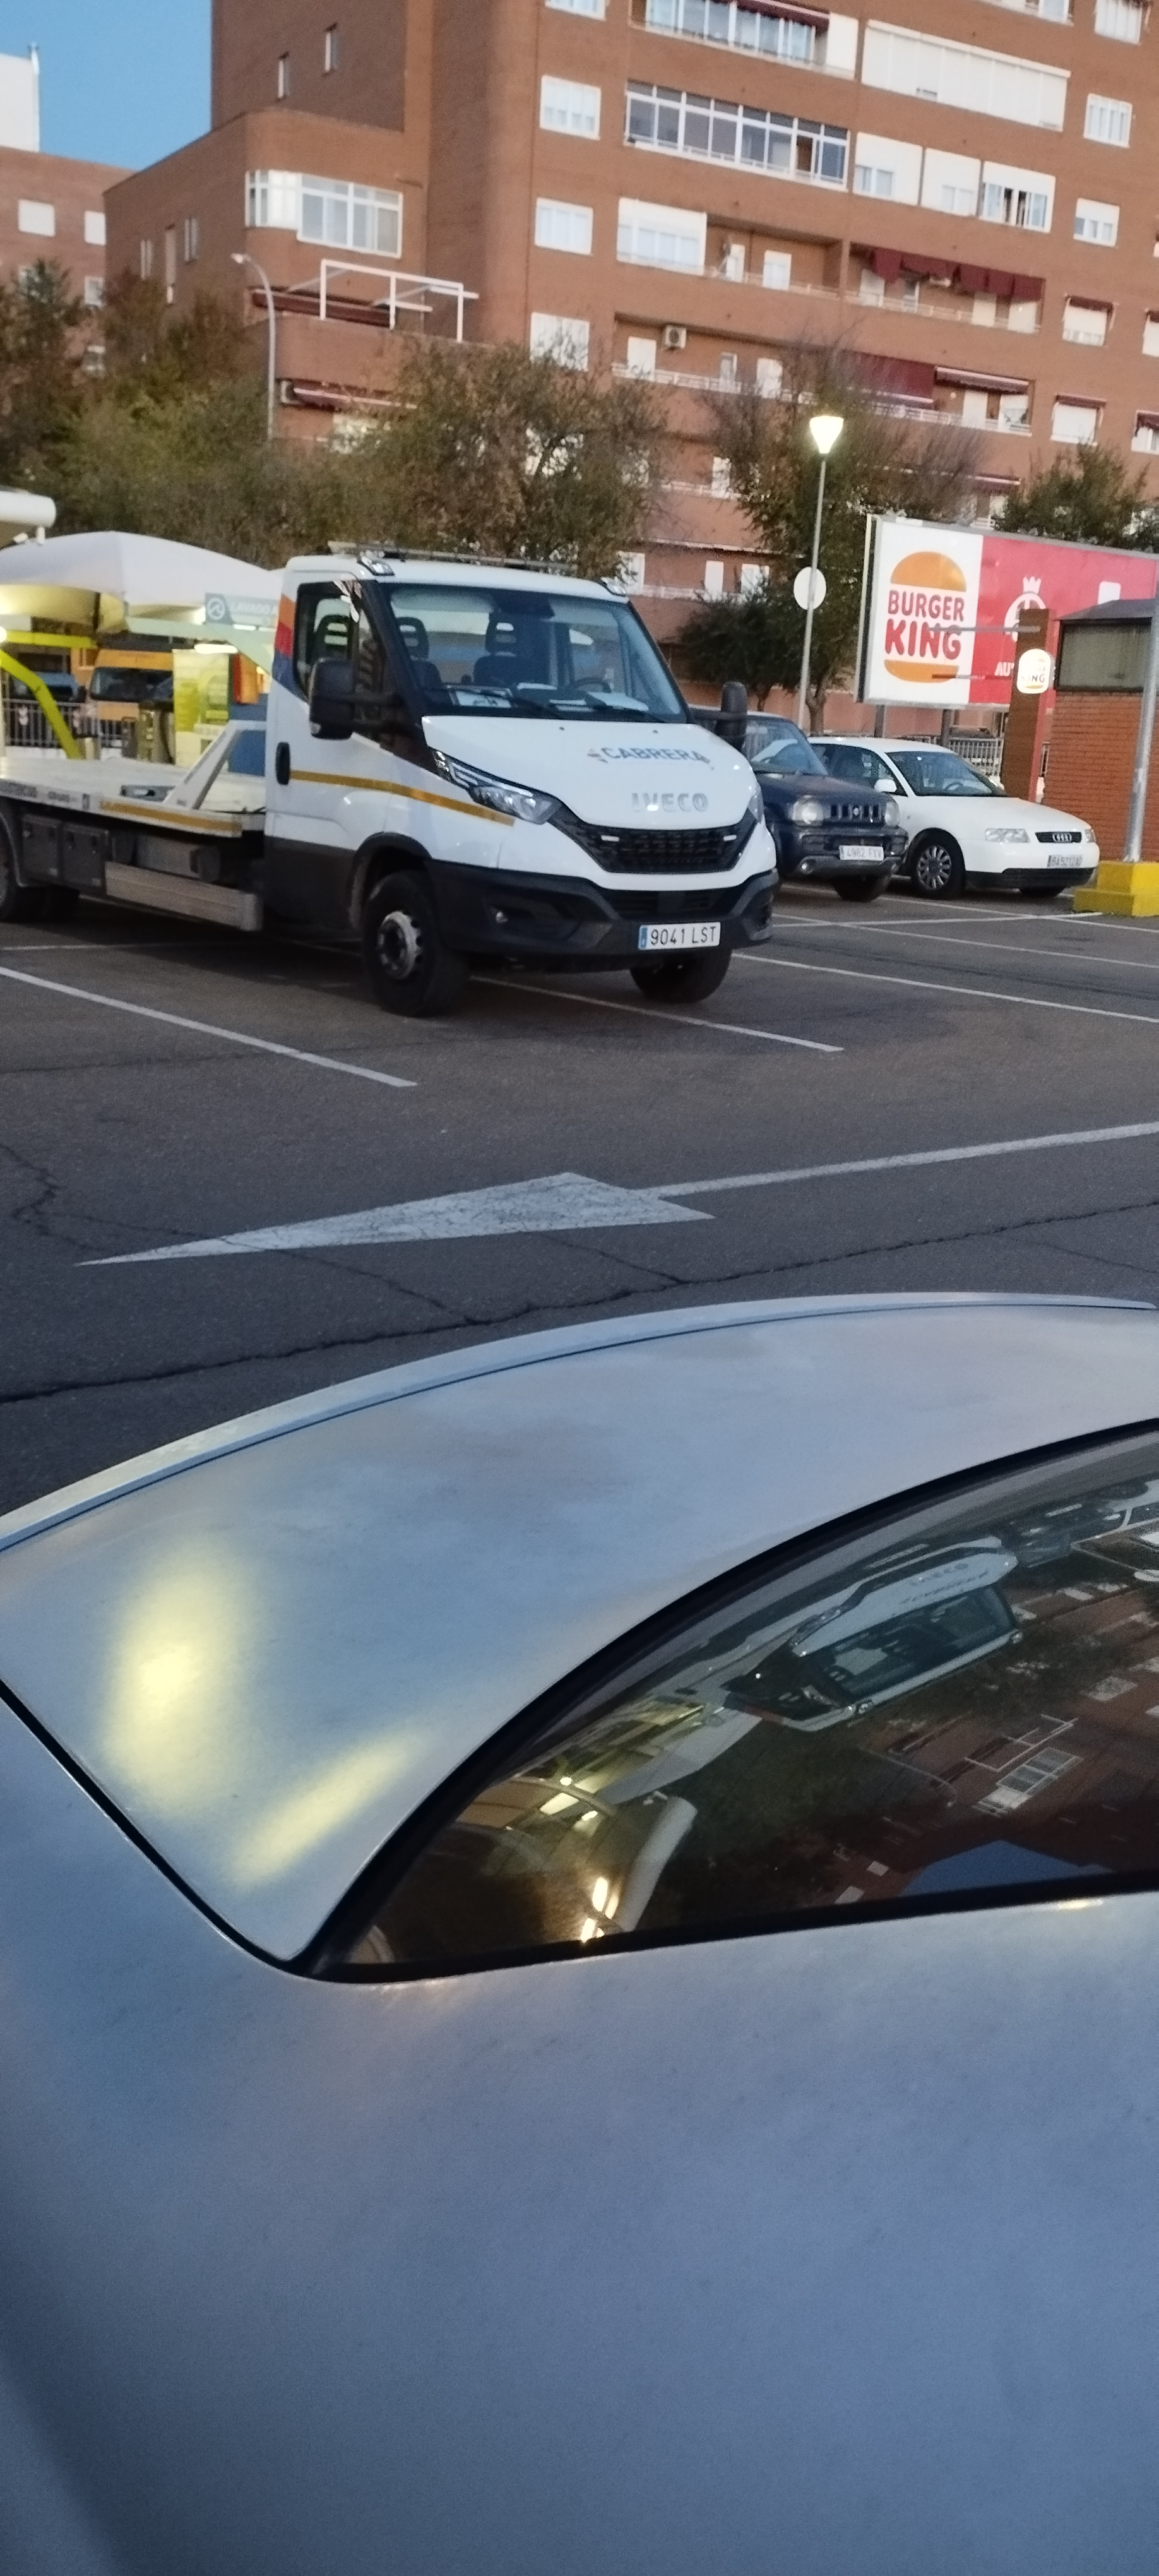Car: (282, 552, 766, 1027), (698, 710, 896, 895), (860, 741, 1096, 895)
Plate: (640, 926, 719, 948), (839, 845, 883, 861), (1048, 853, 1081, 869)
